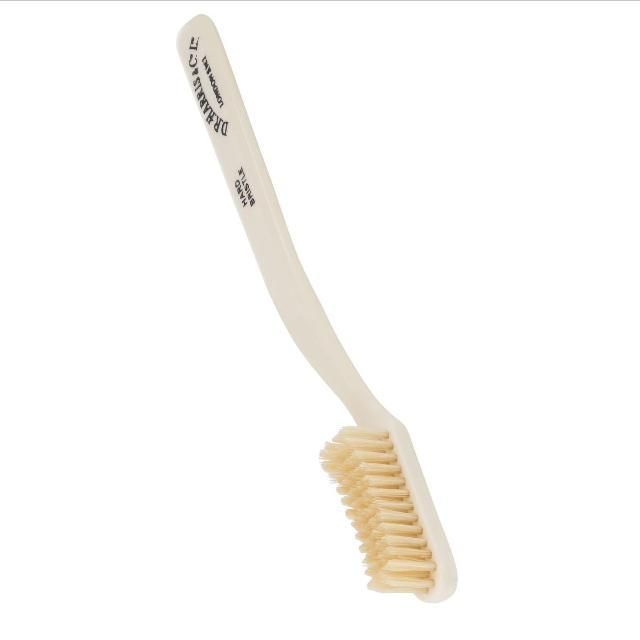toothbrush: (138, 0, 490, 640)
